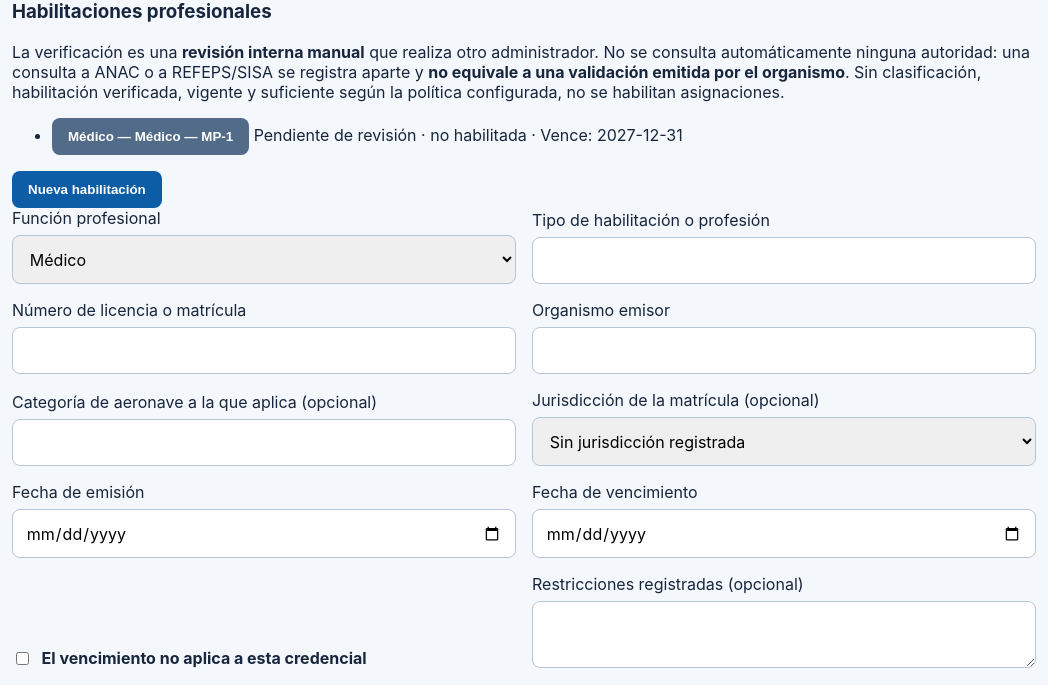
Scenario: a document that did not pass the antimalware analysis cannot be downloaded
Click the button "Médico — Médico — MP-1": click(151, 136) [52, 118, 249, 155]
(page scrolled)
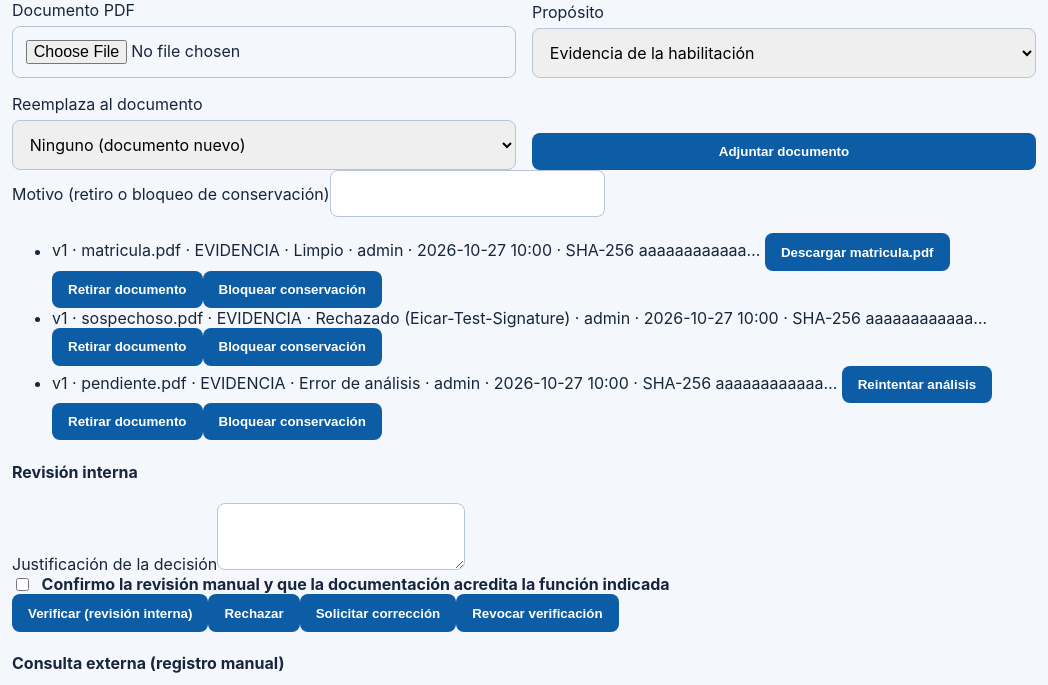
Check: the button "Descargar matricula.pdf" is shown, box [765, 234, 950, 271]
Check: the button "Reintentar análisis" is shown, box [842, 366, 992, 403]
